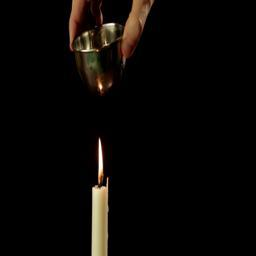fire: (98, 139, 104, 183)
